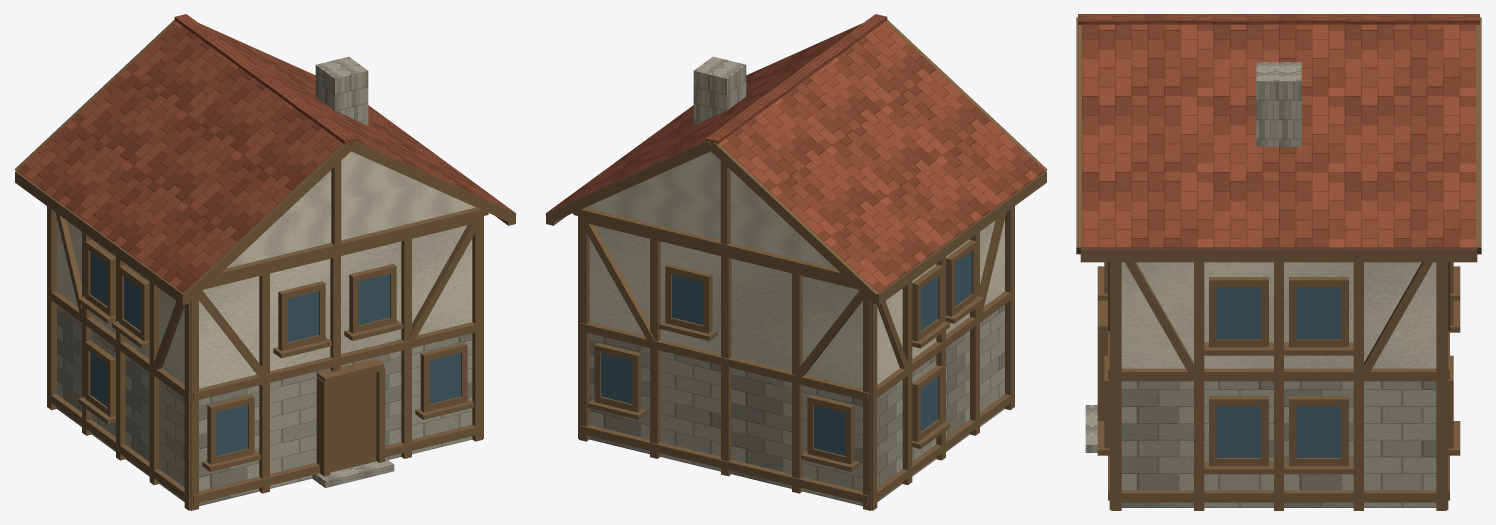
3 renders of one model, left to right at view 1: azimuth 30°, elevation 25°; view 2: azimuth 150°, elevation 25°; view 3: azimuth 270°, elevation 25°, orthographic. The views are drawn at different scales.
Visible parts, largest first — view 1: house-wood, house-roof, house-plaster, house-stone; view 2: house-wood, house-roof, house-plaster, house-stone; view 3: house-roof, house-wood, house-stone, house-plaster.
Boxes of the visible parts, x1,y1,x2,y2 form: house-wood: (14, 19, 516, 510); house-roof: (17, 14, 513, 292); house-plaster: (57, 151, 475, 388); house-stone: (57, 56, 472, 506); house-wood: (545, 19, 1047, 510); house-roof: (548, 14, 1044, 292); house-plaster: (586, 151, 1004, 388); house-stone: (589, 56, 1004, 506); house-roof: (1078, 14, 1479, 248); house-wood: (1076, 17, 1481, 510); house-stone: (1085, 62, 1436, 507); house-plaster: (1121, 262, 1436, 368).
Size of the model in its own units: 7.98 by 7.9 by 7.1.
Materials: 4 (3 with a texture image).
